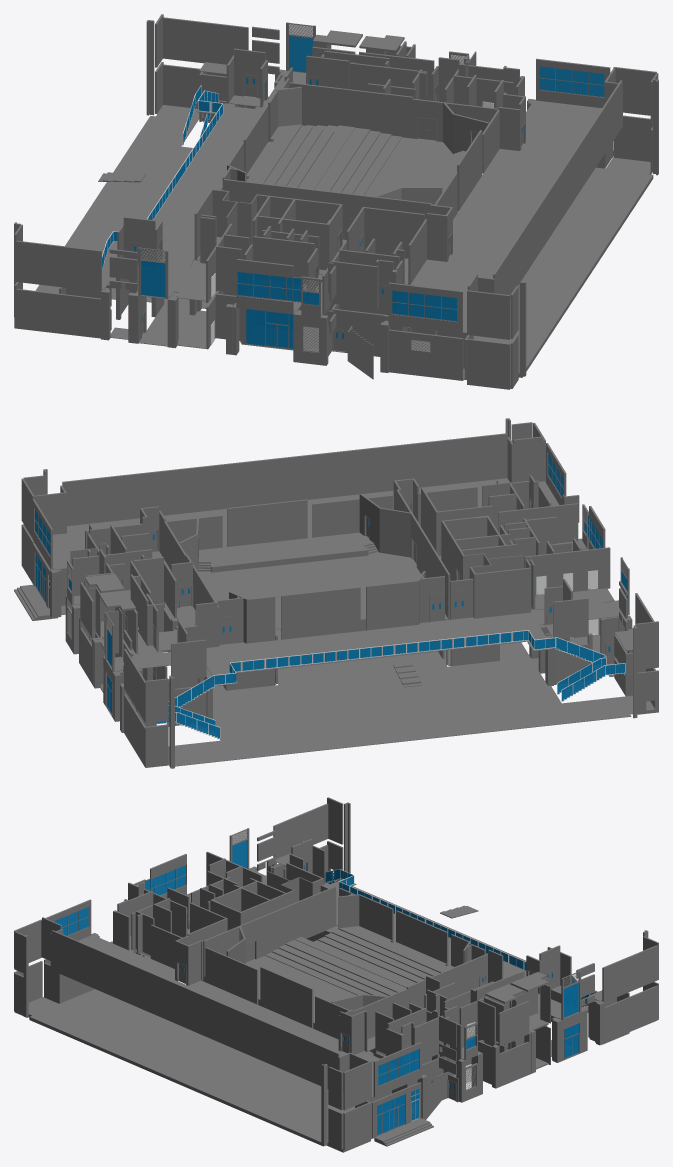
Rendered from DefaultOutput.fbx.
3 renders of one model, top to bottom at view 1: azimuth 30°, elevation 25°; view 2: azimuth 150°, elevation 25°; view 3: azimuth 270°, elevation 25°, orthographic. The views are drawn at different scales.
Parts seen in each view (by area): view 1: Basic Wall - 常规 - 200mm (×3), Floor - 建筑面层50厚 (×2), Floor, C5526（50） - C6526（50） (×2), MQ27 - MQ27, 固定 - C2550 (×2), C5526（50） - C5526（50）, Floor - 建筑面层200厚, Wall, 边缘构件 - 边缘构件; view 2: Basic Wall - 常规 - 200mm (×3), Floor - 建筑面层50厚 (×2), Floor, Wall, Floor - 建筑面层200厚, 常规模型 45 - 常规模型 45; view 3: Basic Wall - 常规 - 200mm (×3), Floor - 建筑面层50厚 (×2), Floor, C5526（50） - C6526（50） (×2), mc4525 - mc4537（50）, Floor - 建筑面层200厚, 常规模型 45 - 常规模型 45, C5526（50） - C5526（50）, Wall, 族2 - 族2.
Part boxes in pixels (x1=…): Basic Wall - 常规 - 200mm (×3): x1=14, y1=14, x2=658, y2=389; Floor - 建筑面层50厚 (×2): x1=35, y1=62, x2=653, y2=388; Floor: x1=98, y1=124, x2=465, y2=196; C5526（50） - C6526（50） (×2): x1=391, y1=66, x2=604, y2=321; MQ27 - MQ27: x1=245, y1=309, x2=293, y2=349; 固定 - C2550 (×2): x1=140, y1=35, x2=313, y2=298; C5526（50） - C5526（50）: x1=237, y1=271, x2=302, y2=302; Floor - 建筑面层200厚: x1=313, y1=30, x2=404, y2=52; Wall: x1=102, y1=85, x2=223, y2=269; 边缘构件 - 边缘构件: x1=167, y1=296, x2=177, y2=348; Basic Wall - 常规 - 200mm (×3): x1=21, y1=418, x2=658, y2=768; Floor - 建筑面层50厚 (×2): x1=53, y1=478, x2=654, y2=766; Floor: x1=198, y1=532, x2=422, y2=687; Wall: x1=157, y1=630, x2=625, y2=739; Floor - 建筑面层200厚: x1=85, y1=574, x2=135, y2=610; 常规模型 45 - 常规模型 45: x1=14, y1=584, x2=51, y2=620; Basic Wall - 常规 - 200mm (×3): x1=14, y1=797, x2=658, y2=1150; Floor - 建筑面层50厚 (×2): x1=28, y1=853, x2=628, y2=1152; Floor: x1=204, y1=905, x2=478, y2=1028; C5526（50） - C6526（50） (×2): x1=53, y1=906, x2=419, y2=1086; mc4525 - mc4537（50）: x1=377, y1=1094, x2=405, y2=1135; Floor - 建筑面层200厚: x1=485, y1=972, x2=548, y2=1003; 常规模型 45 - 常规模型 45: x1=374, y1=1118, x2=433, y2=1146; C5526（50） - C5526（50）: x1=146, y1=865, x2=186, y2=895; Wall: x1=325, y1=869, x2=598, y2=1007; 族2 - 族2: x1=564, y1=1022, x2=580, y2=1059.
Size of the model in its own units: 71686 by 12061 by 71640.
